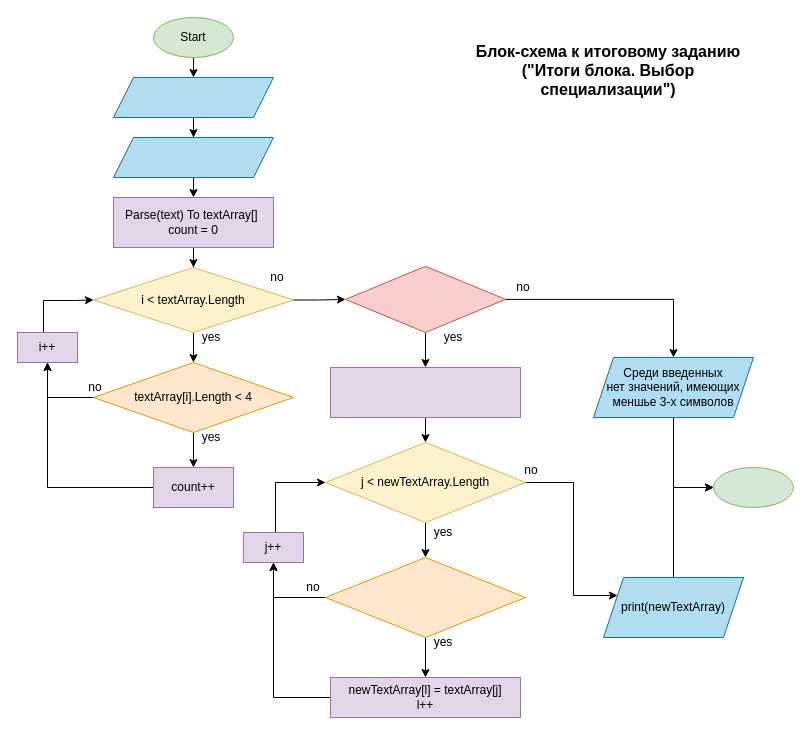
The diagram is 811 pixels wide and 735 high, and some of its shapes have lost their labels. Each missing label, with the centre of its shape:
count > 0: [425,298]
Create newTextArray[count] l = 0 j = 0: [425,392]
End: [753,487]
print("Введите значения, разделив их запятой:"): [193,97]
text = input(): [193,157]
textArray[j].Length < 4: [425,597]
